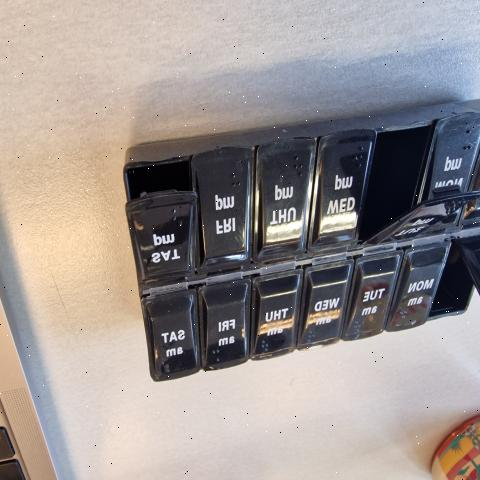Open: (359, 123, 434, 246), (429, 241, 480, 322), (127, 157, 193, 206)
